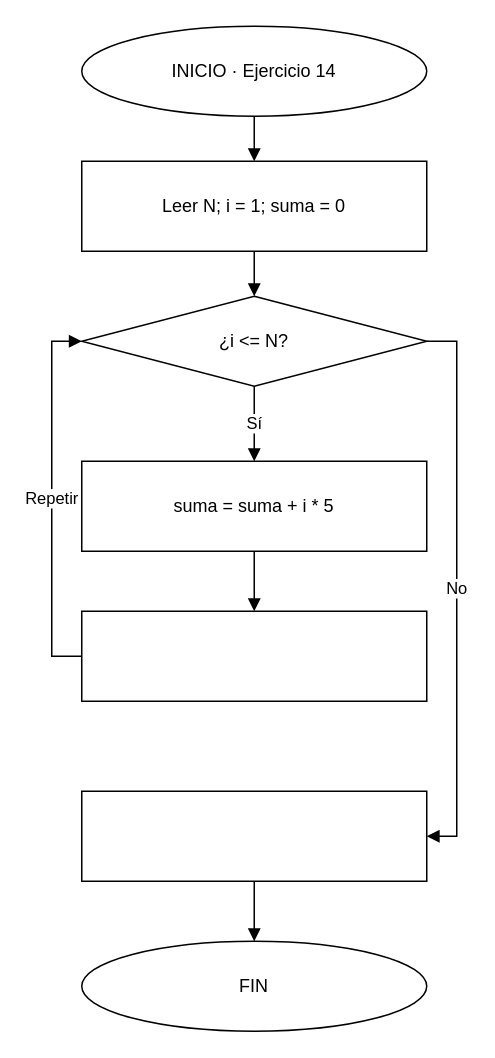
The diagram is 495 pixels wide and 1058 high, and some of its shapes have lost their labels. The box of each missing label's shape, as (x1, y1, x2, y2) in pixels:
i = i + 1: (80, 610, 427, 701)
Mostrar resultado final / terminar el proceso: (80, 790, 427, 881)
